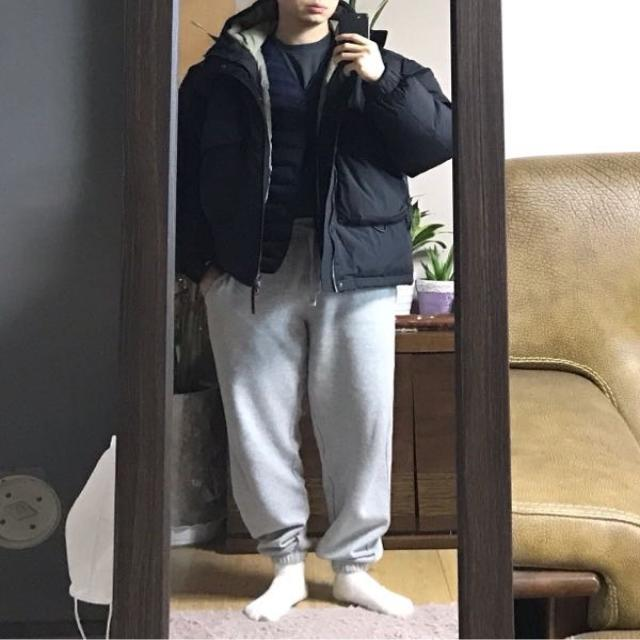padding: (178, 3, 455, 294)
trainingpants: (201, 210, 398, 577)
